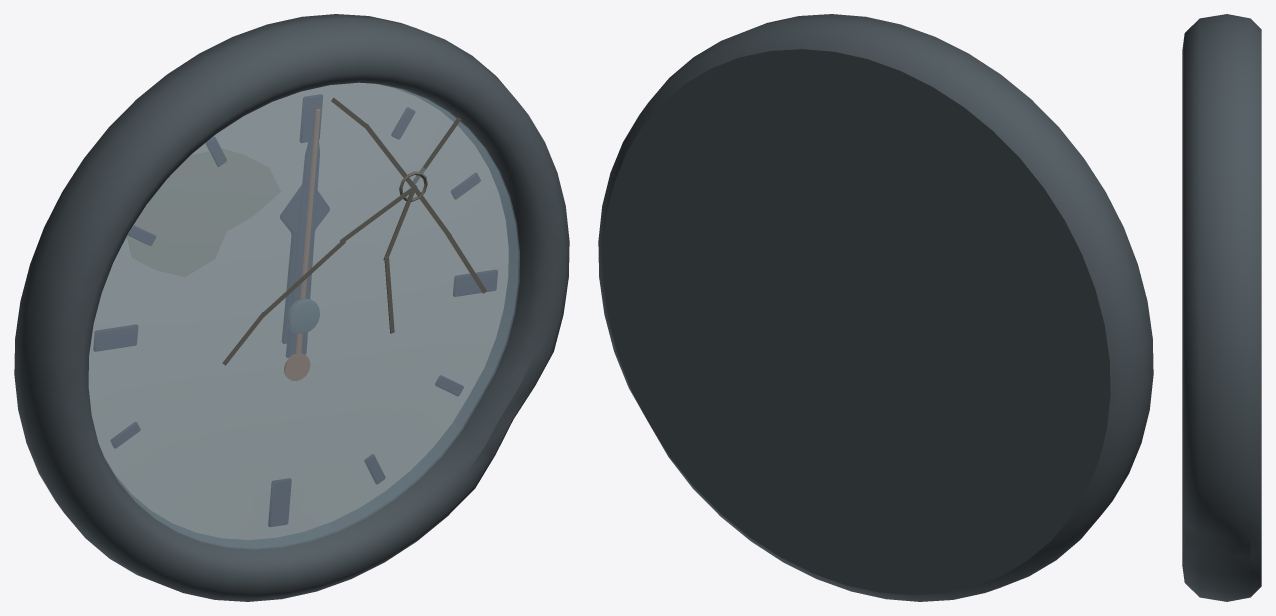
File: wall_clock.glb
3 renders of one model, left to right at view 1: azimuth 30°, elevation 25°; view 2: azimuth 150°, elevation 25°; view 3: azimuth 270°, elevation 25°, orthographic. The views are drawn at different scales.
Parts seen in each view (by area): view 1: Body, MinuteHand, SecondHand, HourHand; view 2: Body; view 3: Body.
Part boxes in pixels (x1,y1,x2,y2): Body: (14, 14, 569, 601); MinuteHand: (286, 118, 319, 357); SecondHand: (284, 109, 320, 380); HourHand: (280, 185, 329, 343); Body: (598, 14, 1153, 601); Body: (1182, 14, 1261, 601).
Size of the model in its own units: 0.9291 by 0.9291 by 0.126.
